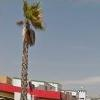Palm tree: (10, 0, 40, 79)
